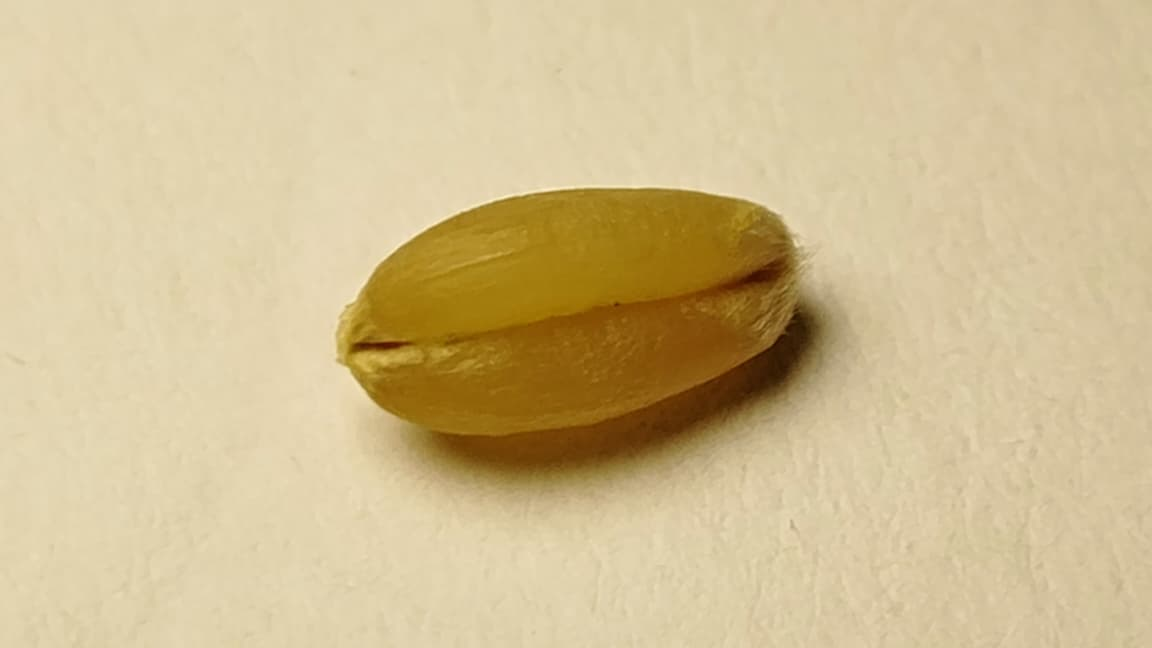healthy: (337, 185, 800, 434)
